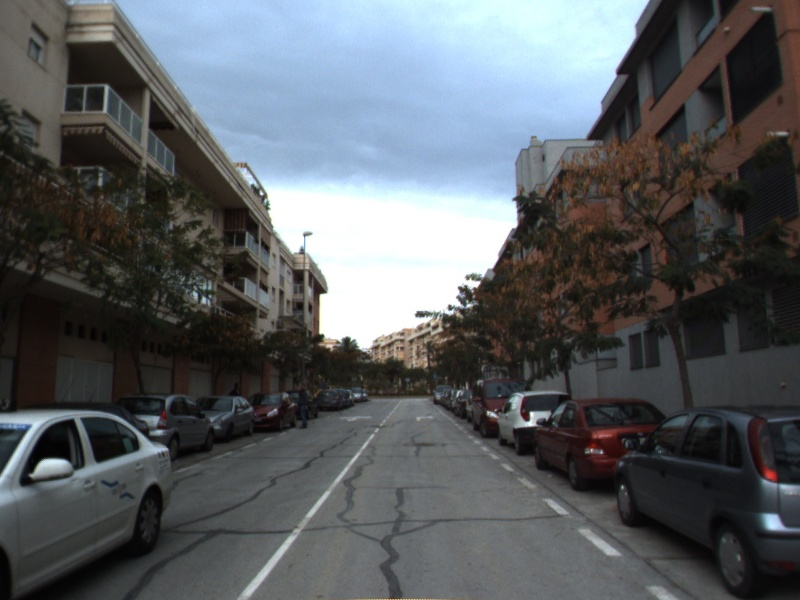RIGHT: (413, 413, 437, 423)
